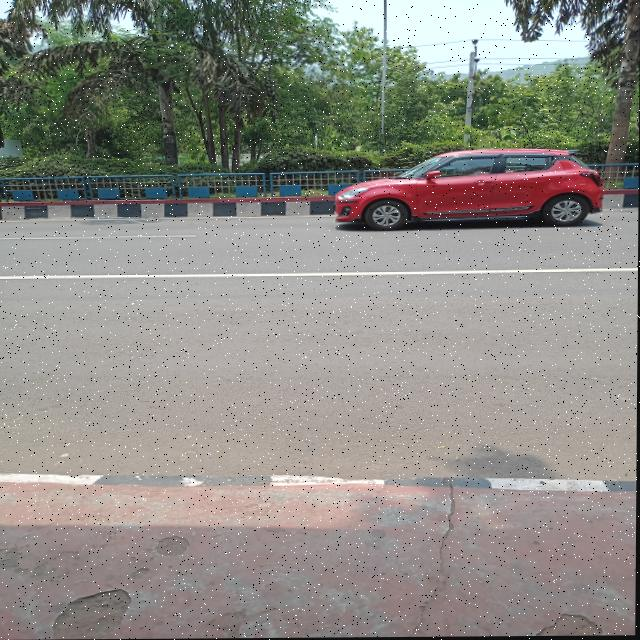car: (330, 138, 615, 232)
